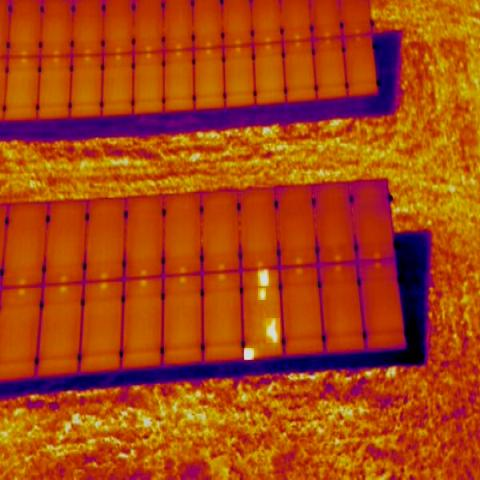fault: (266, 318, 280, 343), (258, 268, 269, 286), (244, 348, 254, 360), (258, 288, 266, 300)
